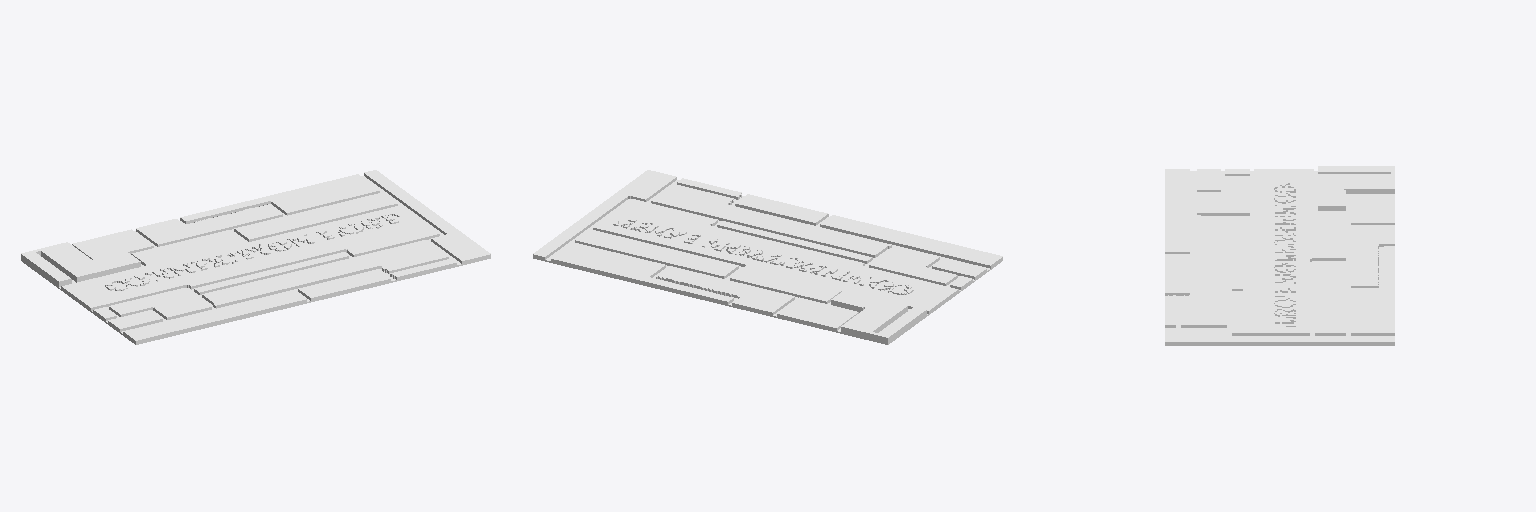
The model's file is ConnectionLost.obj.
3 renders of one model, left to right at view 1: azimuth 30°, elevation 25°; view 2: azimuth 150°, elevation 25°; view 3: azimuth 270°, elevation 25°, orthographic.
Visible parts, largest first — view 1: ConnectionLost; view 2: ConnectionLost; view 3: ConnectionLost.
Part boxes in pixels (x1,y1,x2,y2): ConnectionLost: (21,170,490,344); ConnectionLost: (533,170,1002,344); ConnectionLost: (1165,166,1394,345).
Size of the model in its own units: 25.6 by 0.5 by 14.4.